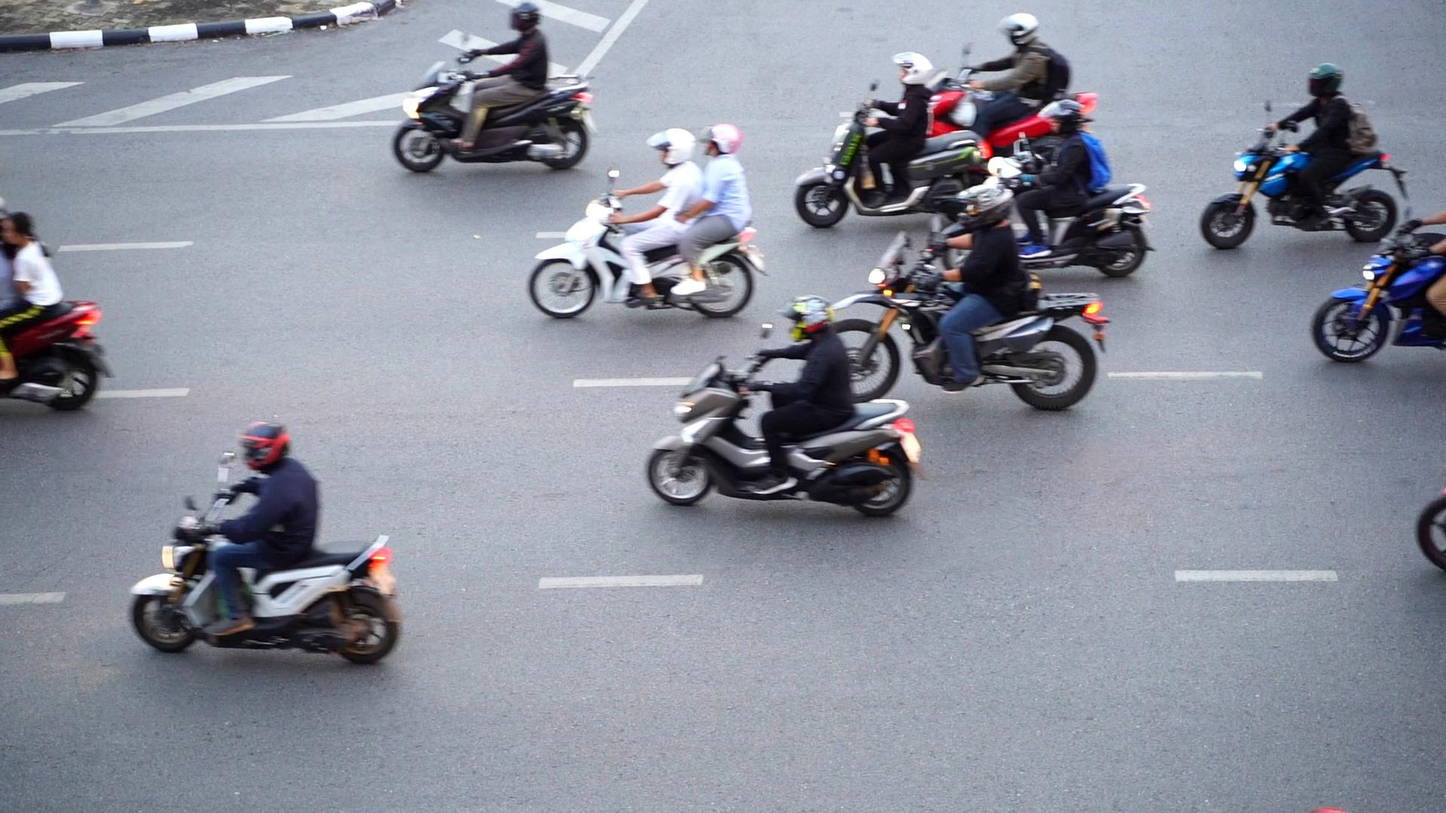driver: (126, 419, 398, 664), (644, 293, 928, 517), (826, 185, 1108, 410), (523, 121, 767, 319), (1201, 62, 1409, 250), (942, 99, 1158, 276), (390, 0, 595, 172), (794, 51, 986, 227), (925, 12, 1098, 176), (0, 194, 115, 411), (1311, 206, 1446, 364)
helmet: (776, 294, 834, 342), (239, 418, 291, 471), (955, 184, 1014, 230), (646, 127, 697, 168), (1036, 99, 1084, 136), (697, 123, 742, 158), (997, 13, 1041, 47), (892, 52, 933, 87), (1308, 62, 1344, 98), (508, 1, 540, 33)
no-helmet: (1, 211, 34, 247)
